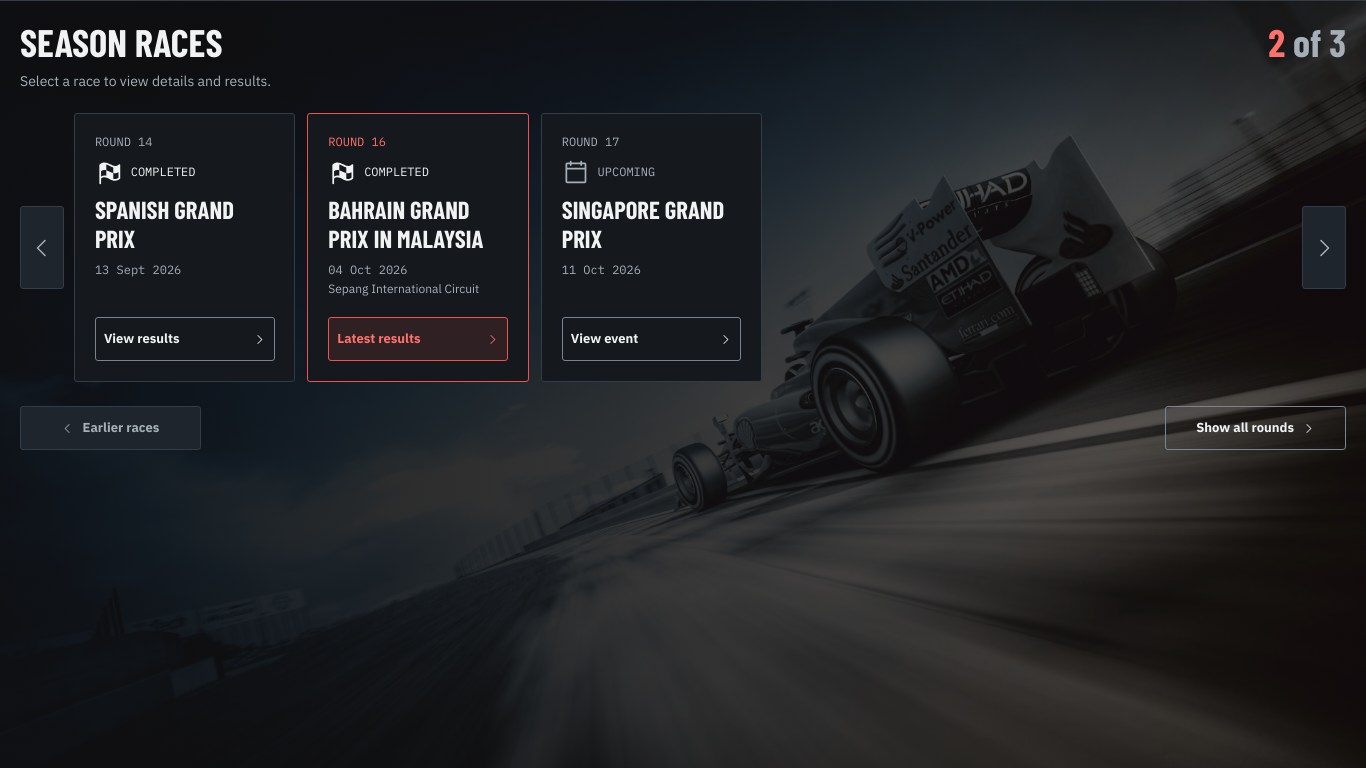
Test case: approved footer restores distinct outlined Earlier races and Show all rounds controls
This screenshot has width=1366, height=768.
Click the button "Show all rounds" at {"x": 1256, "y": 428}, box [1165,406,1346,450]
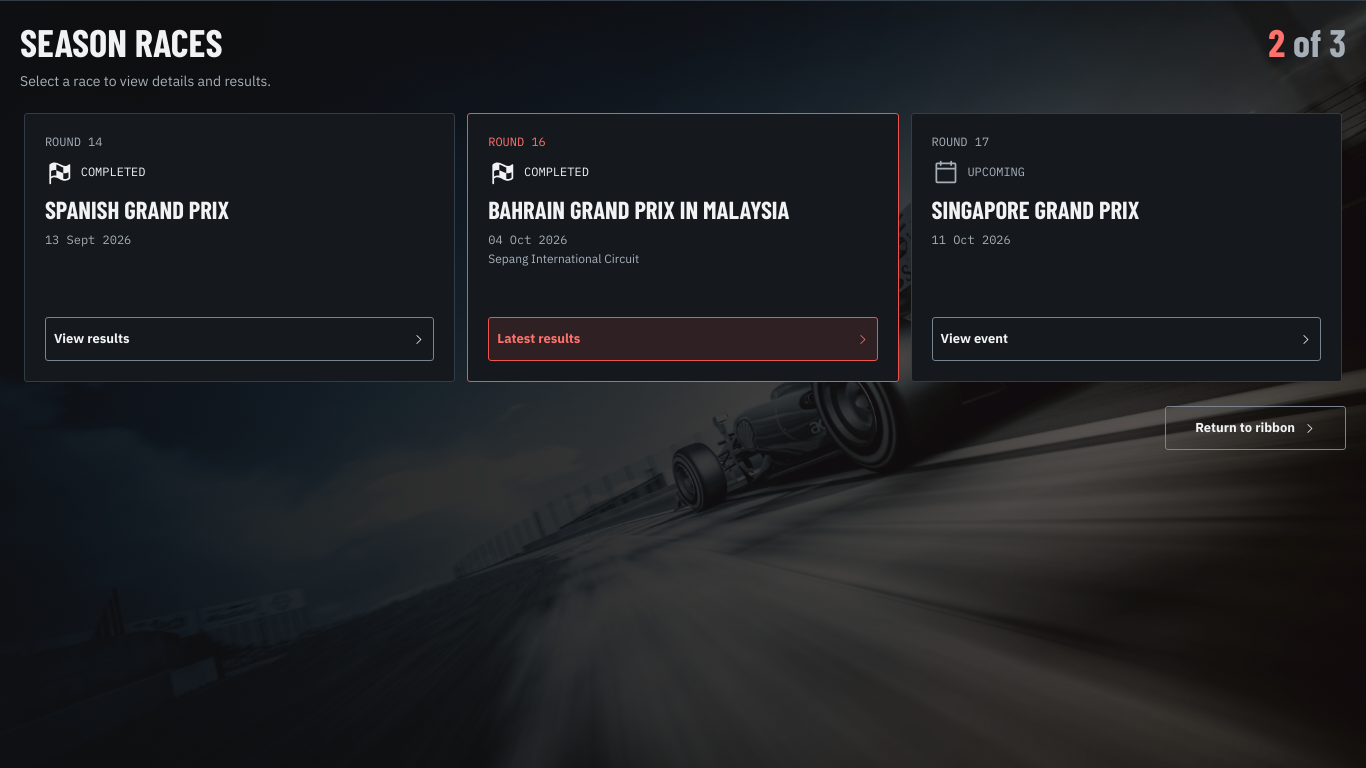
Check: the button "Earlier races" is gone
Check: the button "Return to ribbon" is shown, box [1165,406,1346,450]
